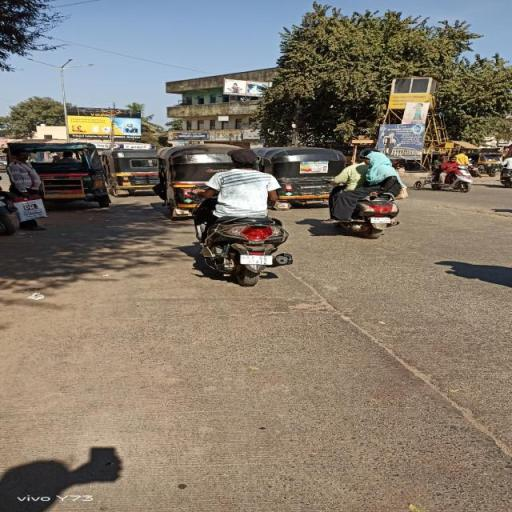bike: (190, 148, 295, 288)
withouthelmet: (229, 150, 255, 166)
